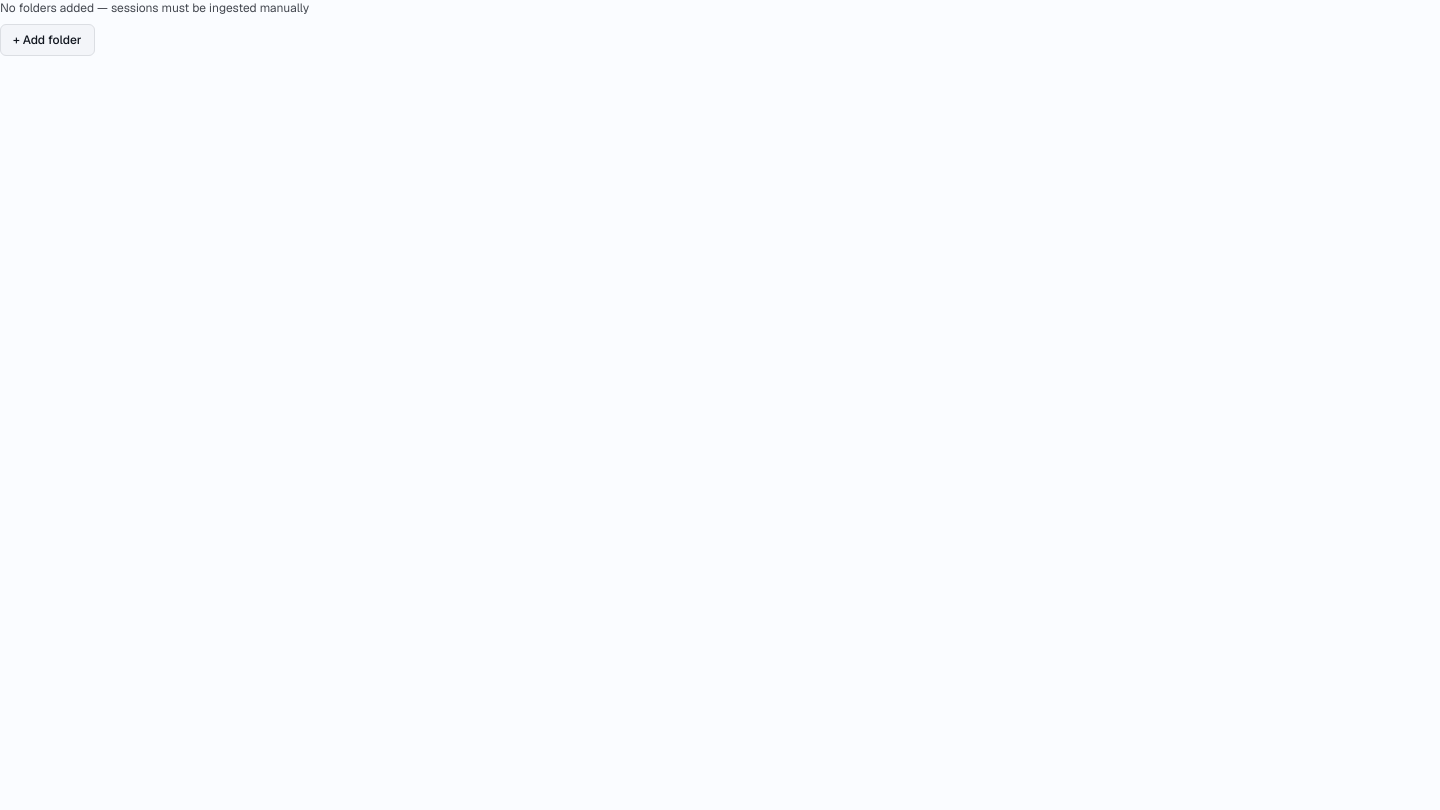
Test: CwdBuilder › opens DirectoryPicker on Add folder click
Click the button "+ Add folder": (47, 40) [0,24,94,56]
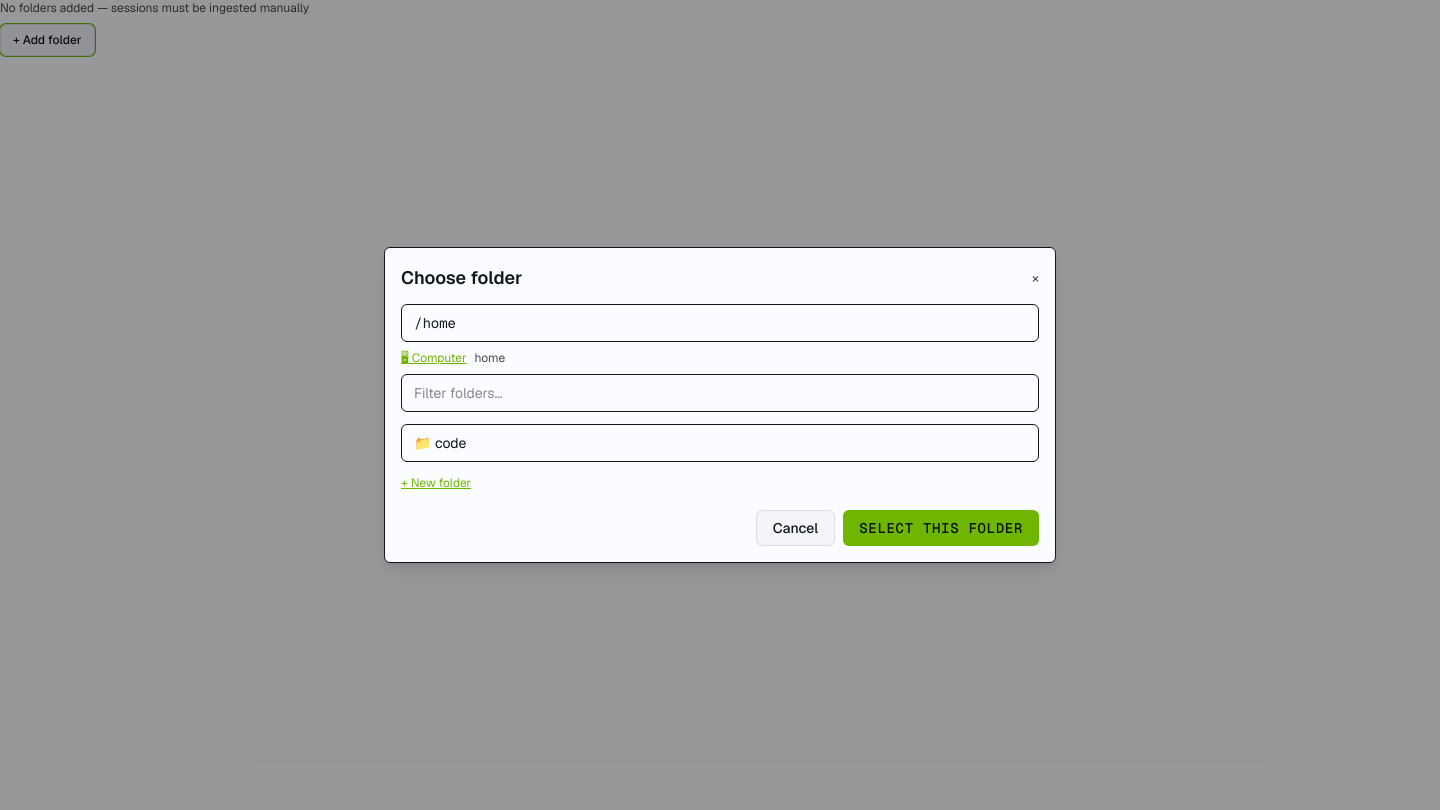
Expected: the button "📁 code" is shown, [402,425,1038,461]
